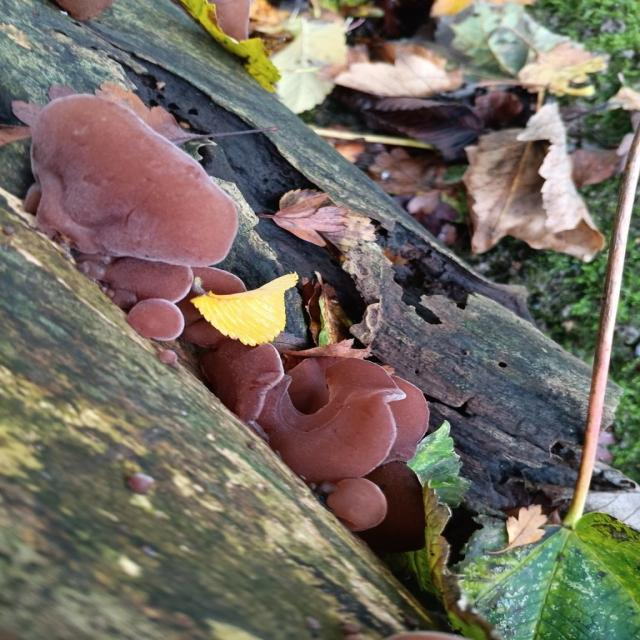Fase Muda: (262, 352, 408, 488), (202, 334, 290, 423), (370, 373, 429, 470), (324, 475, 390, 530), (123, 295, 188, 343)
Matang: (8, 94, 242, 266), (104, 260, 195, 302)
primordia: (126, 472, 156, 498), (155, 348, 180, 368)
